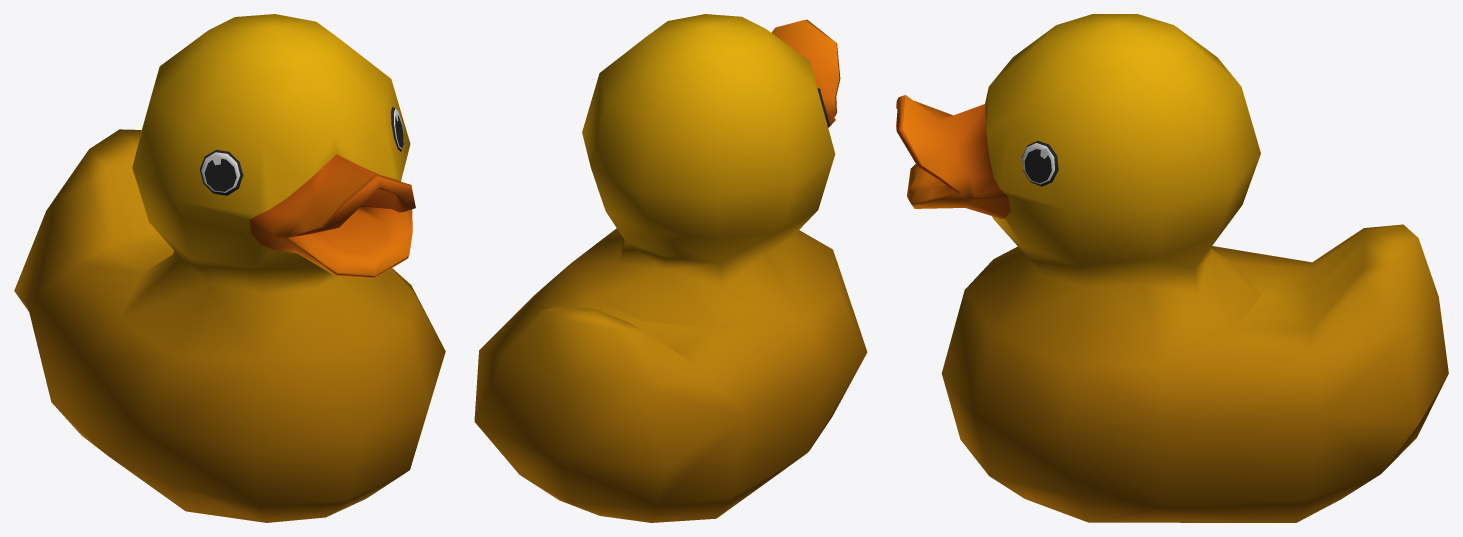
File: DuckyCombinedMesh.glb
3 renders of one model, left to right at view 1: azimuth 30°, elevation 25°; view 2: azimuth 150°, elevation 25°; view 3: azimuth 270°, elevation 25°, orthographic. The views are drawn at different scales.
Visible parts, largest first — view 1: DuckyCombined; view 2: DuckyCombined; view 3: DuckyCombined.
Part boxes in pixels (<box>): DuckyCombined: <box>14,14,445,522</box>; DuckyCombined: <box>474,14,867,522</box>; DuckyCombined: <box>896,14,1448,522</box>.
Size of what is drawn, in the model's own units: 0.1206 by 0.1602 by 0.1784.
Materials: 1 (1 with a texture image).
